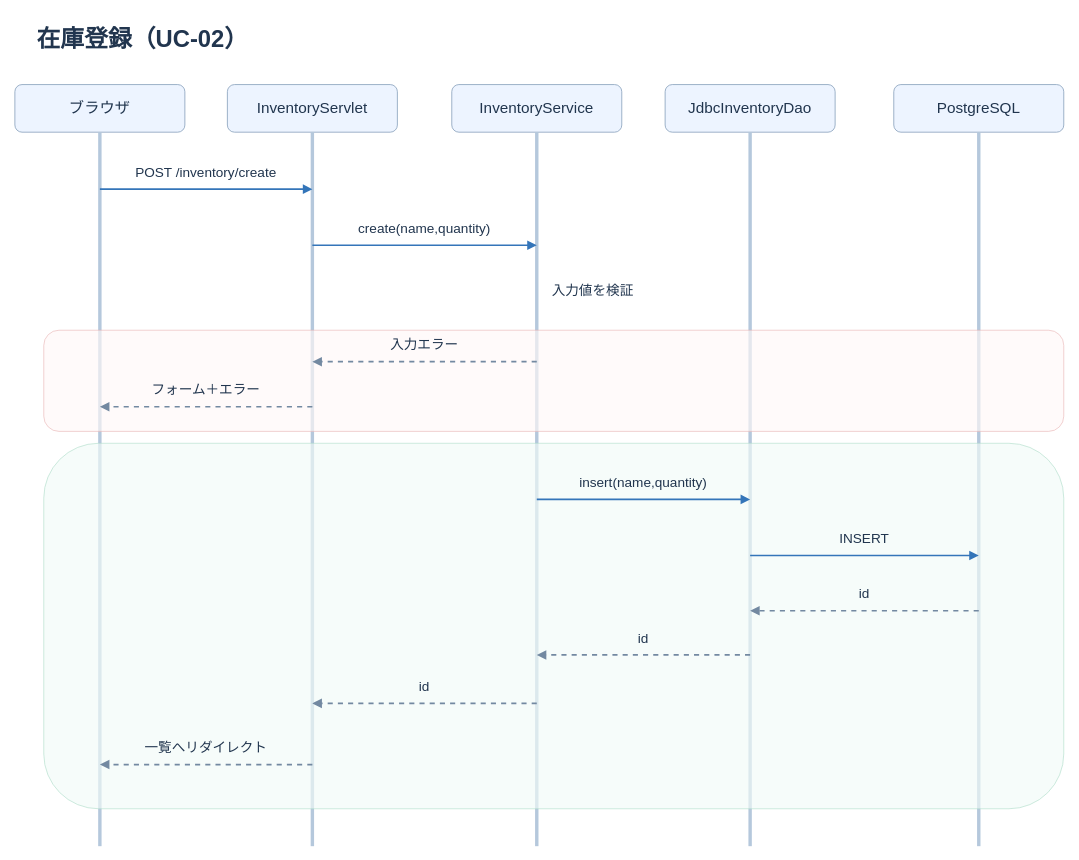
This 1079x860 diagram has some shape labels left out. Here are the shapes that lost their labels. From the top down, the box of each, then its label:
(43, 329, 1064, 431): 入力が不正
(43, 442, 1064, 809): 入力が正常
